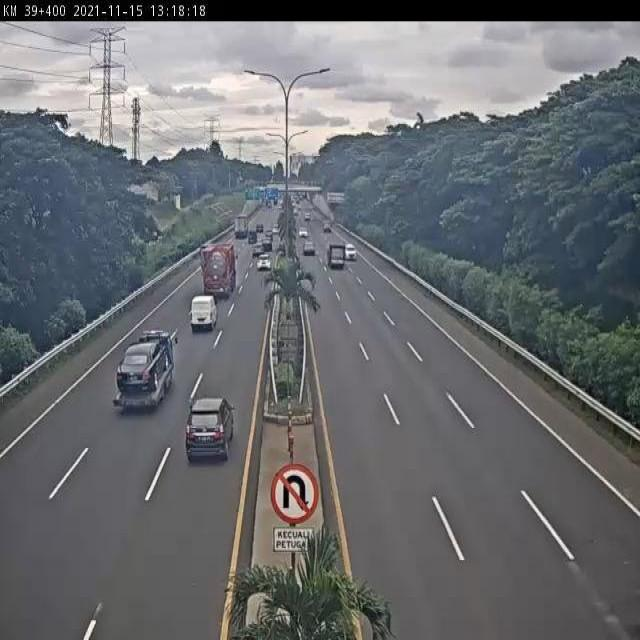bus-s-: (190, 294, 221, 330)
car: (185, 392, 236, 465)
truck-m-: (115, 330, 177, 414)
truck-xl-: (201, 241, 238, 299)
